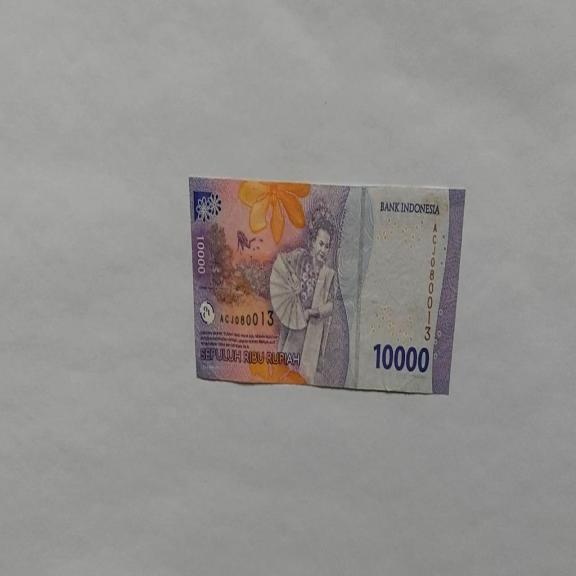Kertas: (188, 176, 465, 395), (372, 340, 430, 374)
